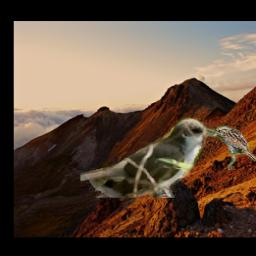Cuckoo: (80, 118, 218, 199)
Sparrow: (213, 126, 256, 171)
